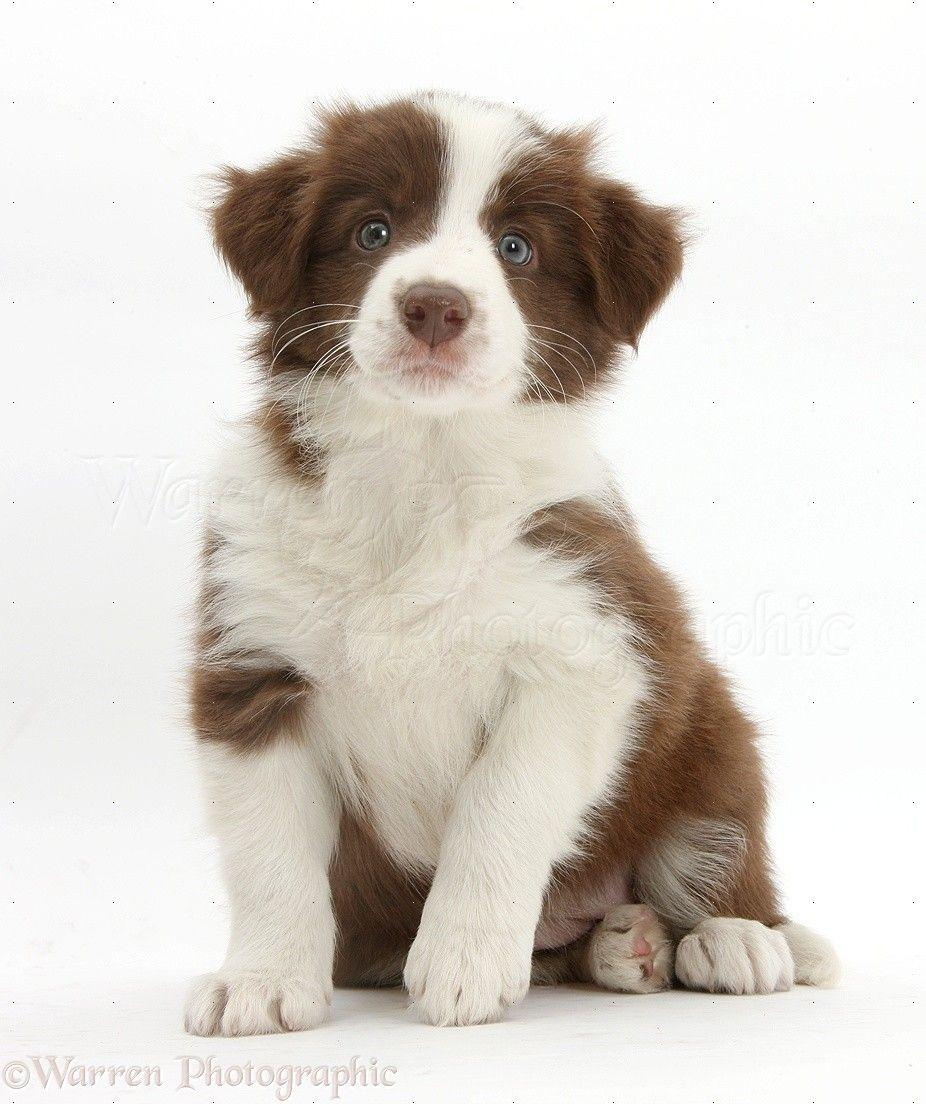puppy-dog: (177, 85, 844, 1039)
